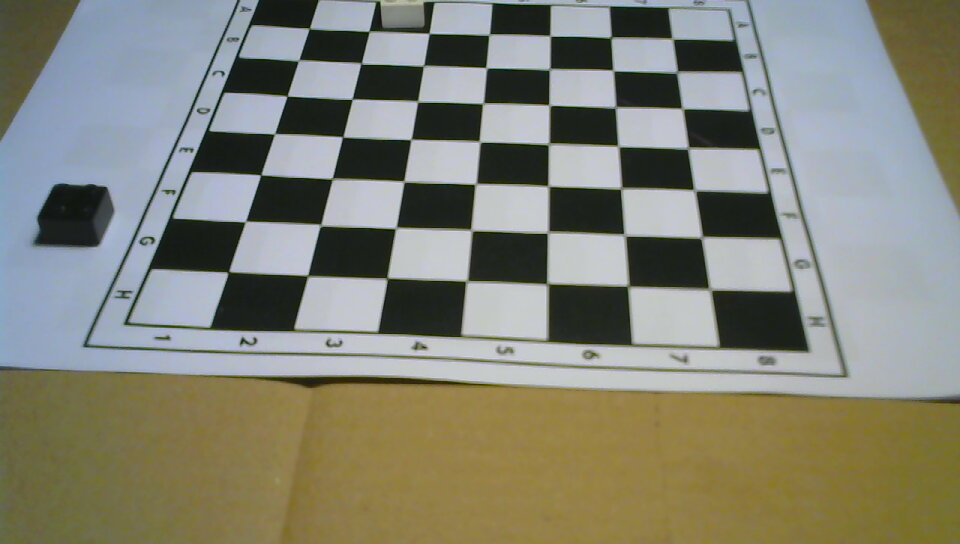bp: (35, 183, 115, 248)
wp: (380, 1, 426, 27)
